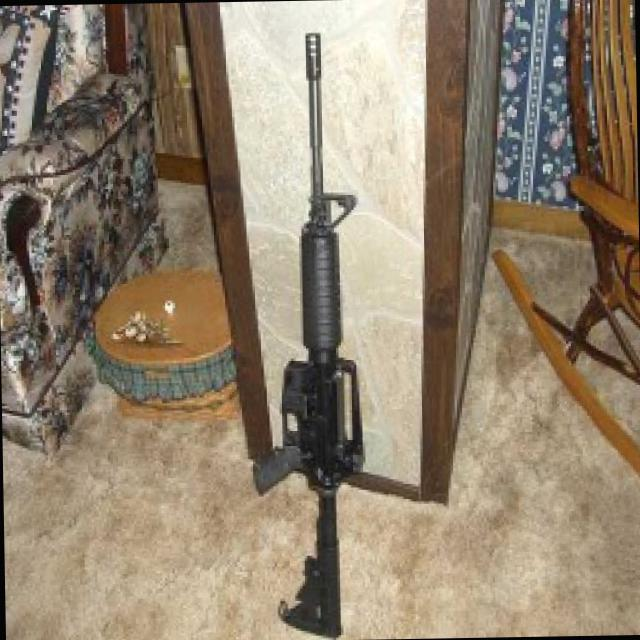long weapon: (210, 33, 410, 639)
